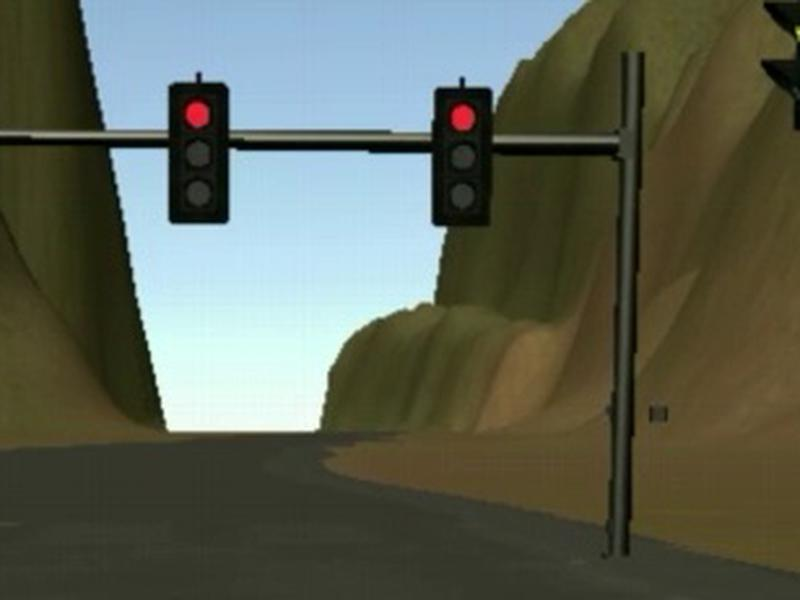Red: (168, 81, 229, 224), (432, 88, 493, 226)
